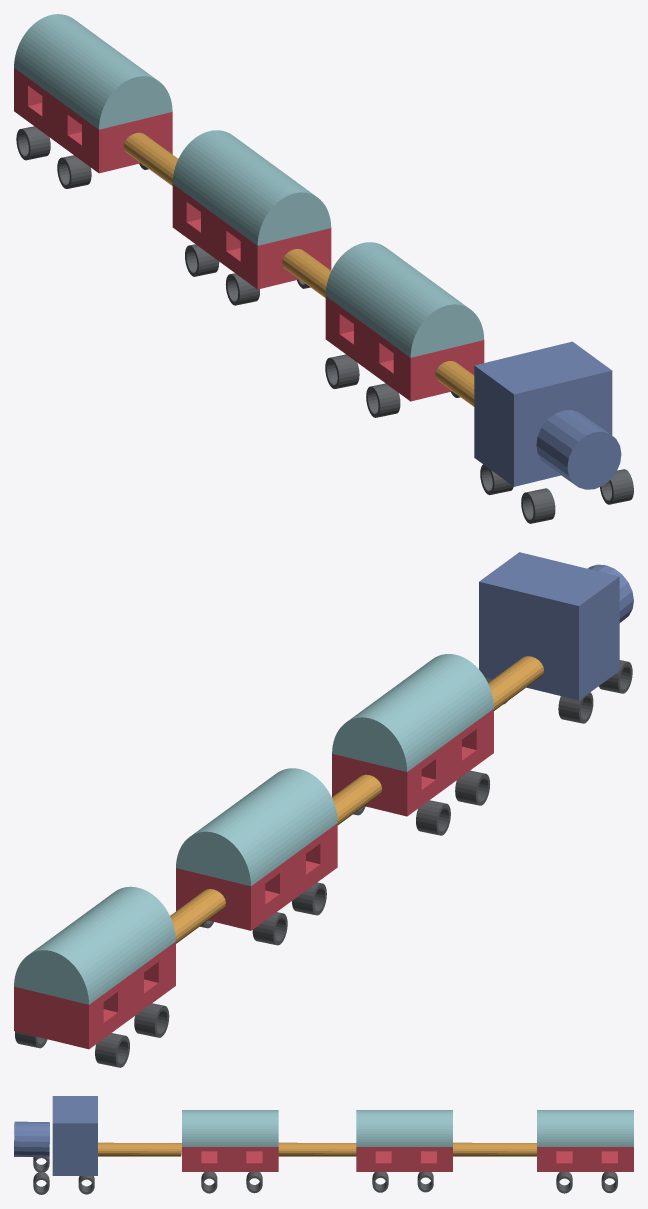
The model's file is pro-150.glb.
3 views of the same model, one above another, from view 1: azimuth 30°, elevation 25°; view 2: azimuth 150°, elevation 25°; view 3: azimuth 270°, elevation 25° (orthographic). The views are drawn at different scales.
Parts seen in each view (by area): view 1: Mesh_Mesh_head_geo.001_lambert2SG.001; view 2: Mesh_Mesh_head_geo.001_lambert2SG.001; view 3: Mesh_Mesh_head_geo.001_lambert2SG.001.
Boxes of the visible parts, x1=… form: Mesh_Mesh_head_geo.001_lambert2SG.001: x1=14, y1=14, x2=633, y2=523; Mesh_Mesh_head_geo.001_lambert2SG.001: x1=14, y1=552, x2=633, y2=1067; Mesh_Mesh_head_geo.001_lambert2SG.001: x1=14, y1=1096, x2=633, y2=1194.
Size of the model in its own units: 22 by 23.99 by 192.
